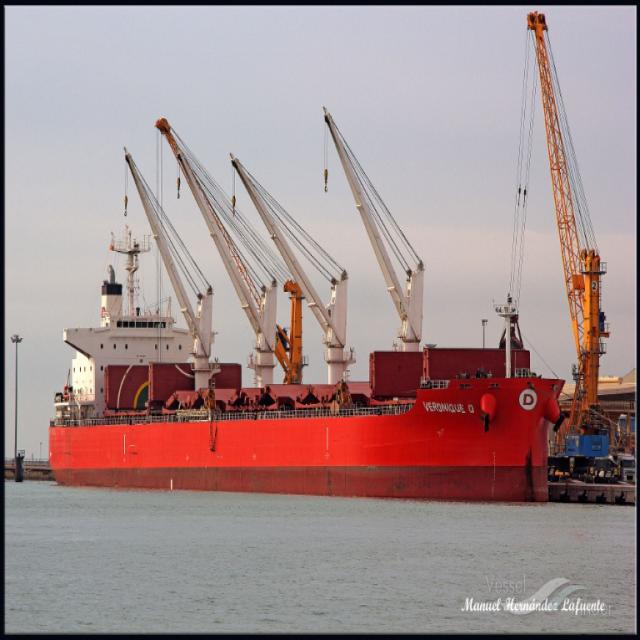OCR: (417, 392, 474, 415)
